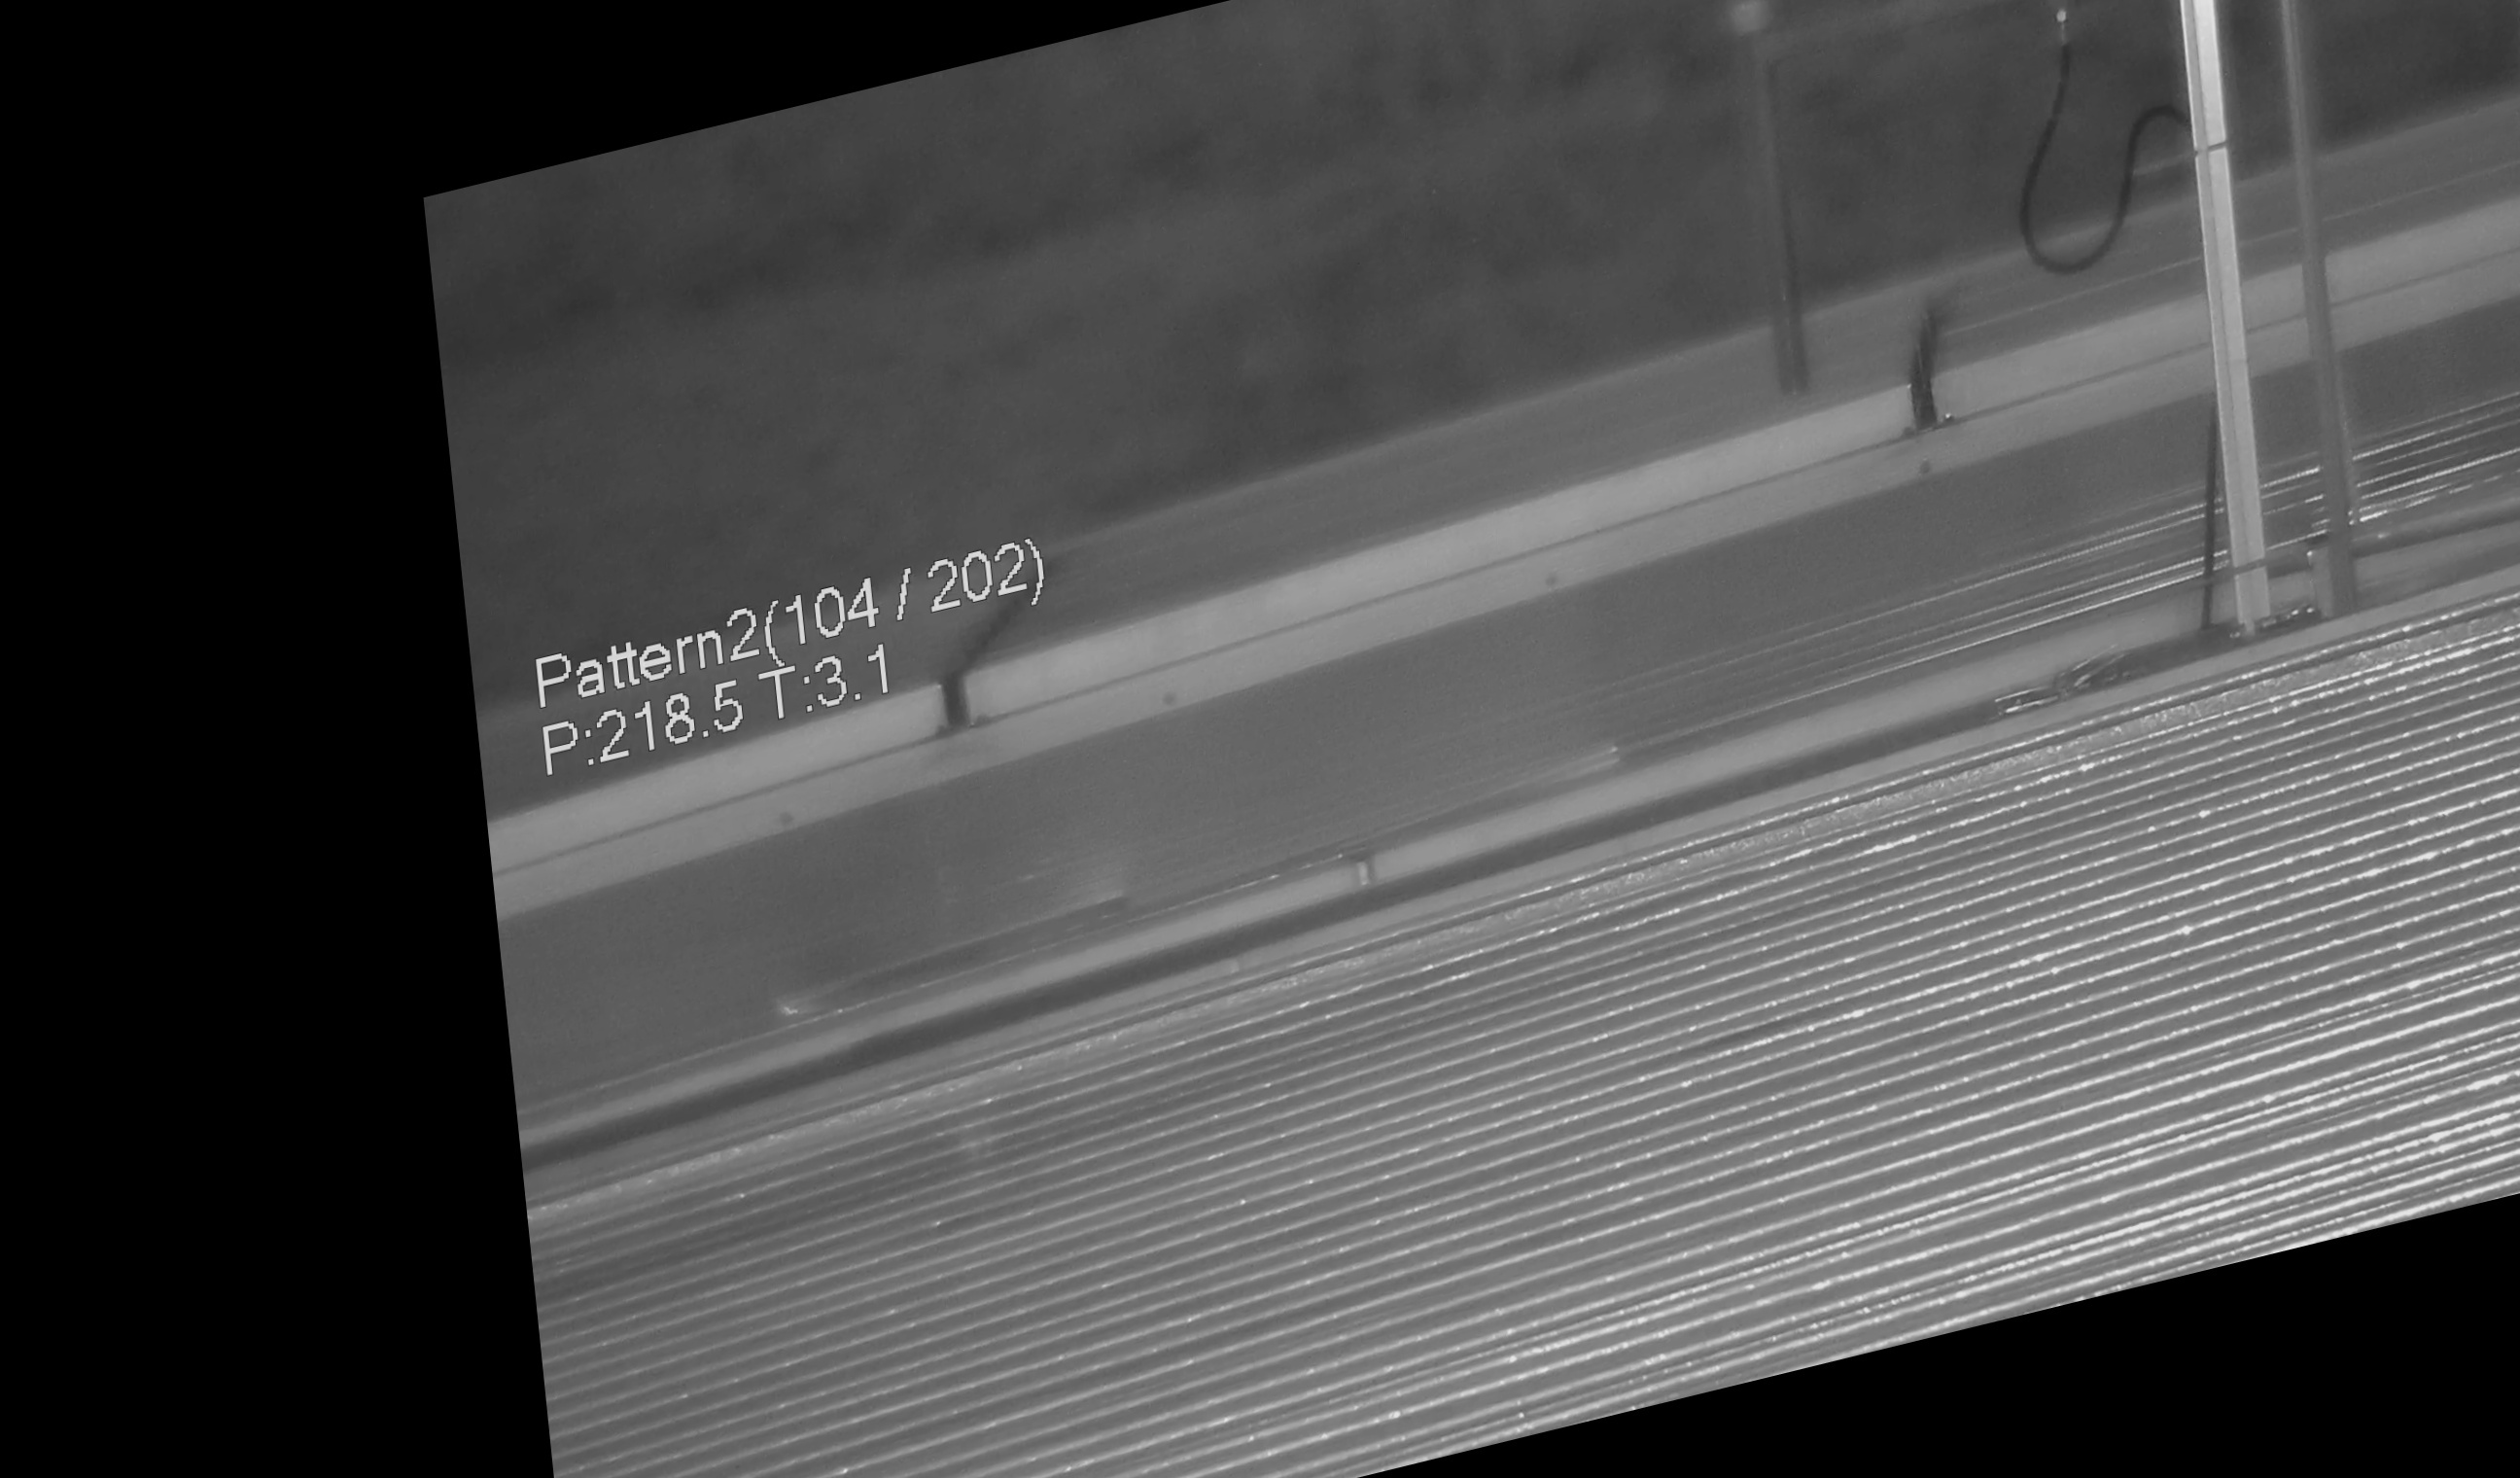Other: (1882, 274, 1978, 440)
